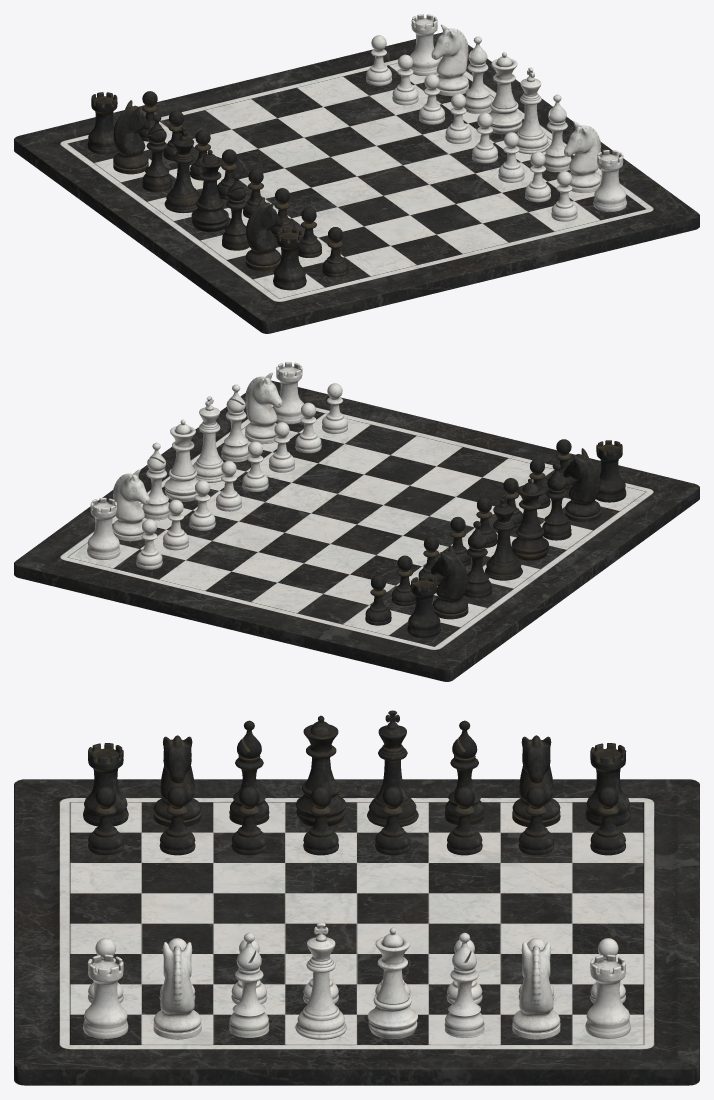
The model's file is chess_set_2k.gltf.
3 views of the same model, one above another, from view 1: azimuth 30°, elevation 25°; view 2: azimuth 150°, elevation 25°; view 3: azimuth 270°, elevation 25° (orthographic). The views are drawn at different scales.
Parts seen in each view (by area): view 1: board, piece_knight_black_01, piece_knight_black_02, piece_knight_white_02, piece_knight_white_01, piece_queen_black, piece_queen_white, piece_king_black, piece_king_white, piece_rook_black_02, piece_rook_white_01, piece_rook_black_01 (+21 smaller); view 2: board, piece_knight_black_02, piece_knight_black_01, piece_knight_white_01, piece_knight_white_02, piece_queen_black, piece_queen_white, piece_king_black, piece_king_white, piece_rook_white_02, piece_rook_black_01, piece_rook_black_02 (+21 smaller); view 3: board, piece_queen_white, piece_knight_white_01, piece_knight_white_02, piece_king_white, piece_queen_black, piece_rook_white_01, piece_rook_white_02, piece_king_black, piece_knight_black_01, piece_knight_black_02, piece_bishop_white_01 (+13 smaller).
Part boxes in pixels (box(x1,y1,x2,y2)): board: box(14, 32, 699, 333); piece_knight_black_01: box(113, 100, 150, 174); piece_knight_black_02: box(245, 197, 282, 271); piece_knight_white_02: box(431, 24, 468, 96); piece_knight_white_01: box(564, 121, 601, 192); piece_queen_black: box(191, 150, 228, 232); piece_queen_white: box(488, 52, 522, 134); piece_king_black: box(164, 126, 200, 213); piece_king_white: box(516, 67, 549, 154); piece_rook_black_02: box(273, 228, 306, 290); piece_rook_white_01: box(593, 150, 626, 211); piece_rook_black_01: box(87, 92, 117, 154); board: box(14, 380, 699, 681); piece_knight_black_02: box(563, 448, 600, 522); piece_knight_black_01: box(431, 545, 468, 619); piece_knight_white_01: box(245, 372, 282, 444); piece_knight_white_02: box(112, 469, 149, 541); piece_queen_black: box(511, 478, 548, 560); piece_queen_white: box(164, 419, 198, 501); piece_king_black: box(485, 494, 522, 580); piece_king_white: box(193, 396, 223, 482); piece_rook_white_02: box(87, 497, 120, 559); piece_rook_black_01: box(407, 576, 440, 638); piece_rook_black_02: box(596, 440, 626, 502); board: box(14, 779, 699, 1085); piece_queen_white: box(367, 927, 417, 1038); piece_knight_white_01: box(153, 942, 201, 1039); piece_knight_white_02: box(512, 942, 560, 1039); piece_king_white: box(295, 922, 346, 1039); piece_queen_black: box(296, 715, 346, 826); piece_rook_white_01: box(83, 954, 128, 1038); piece_rook_white_02: box(585, 954, 630, 1038); piece_king_black: box(367, 710, 418, 826); piece_knight_black_01: box(512, 735, 560, 826); piece_knight_black_02: box(153, 735, 201, 826); piece_bishop_white_01: box(229, 932, 269, 1037).
Bounding box in the file's own units: 0.5532 × 0.1124 × 0.5532.
3 materials, 3 textured.
